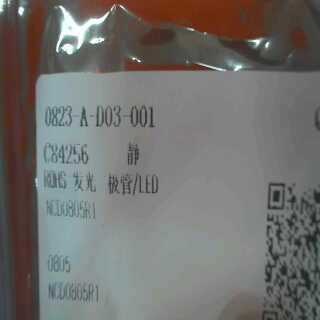LED: (68, 167, 167, 199)
